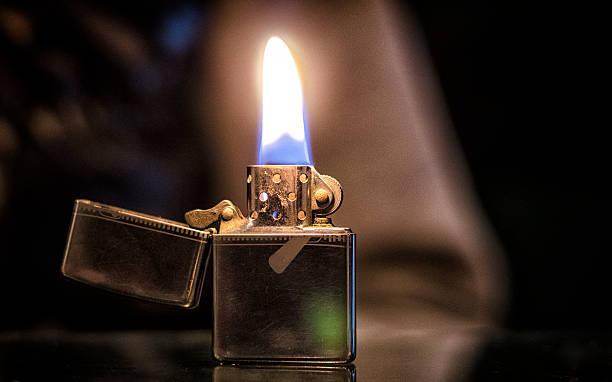Fire: (258, 38, 308, 165)
